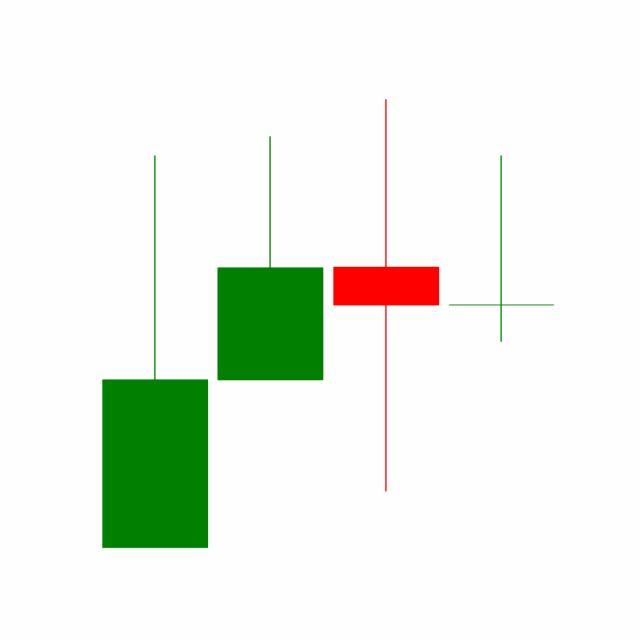Spinning Top: (444, 153, 560, 345)
